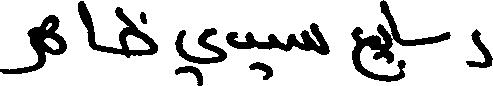X: (292, 18, 375, 84), (177, 23, 225, 85), (116, 2, 158, 62), (0, 22, 38, 78), (40, 10, 64, 72), (468, 24, 492, 72), (377, 0, 388, 85), (78, 0, 94, 54), (390, 8, 399, 85), (269, 29, 277, 82), (444, 27, 450, 44), (227, 28, 228, 48)
